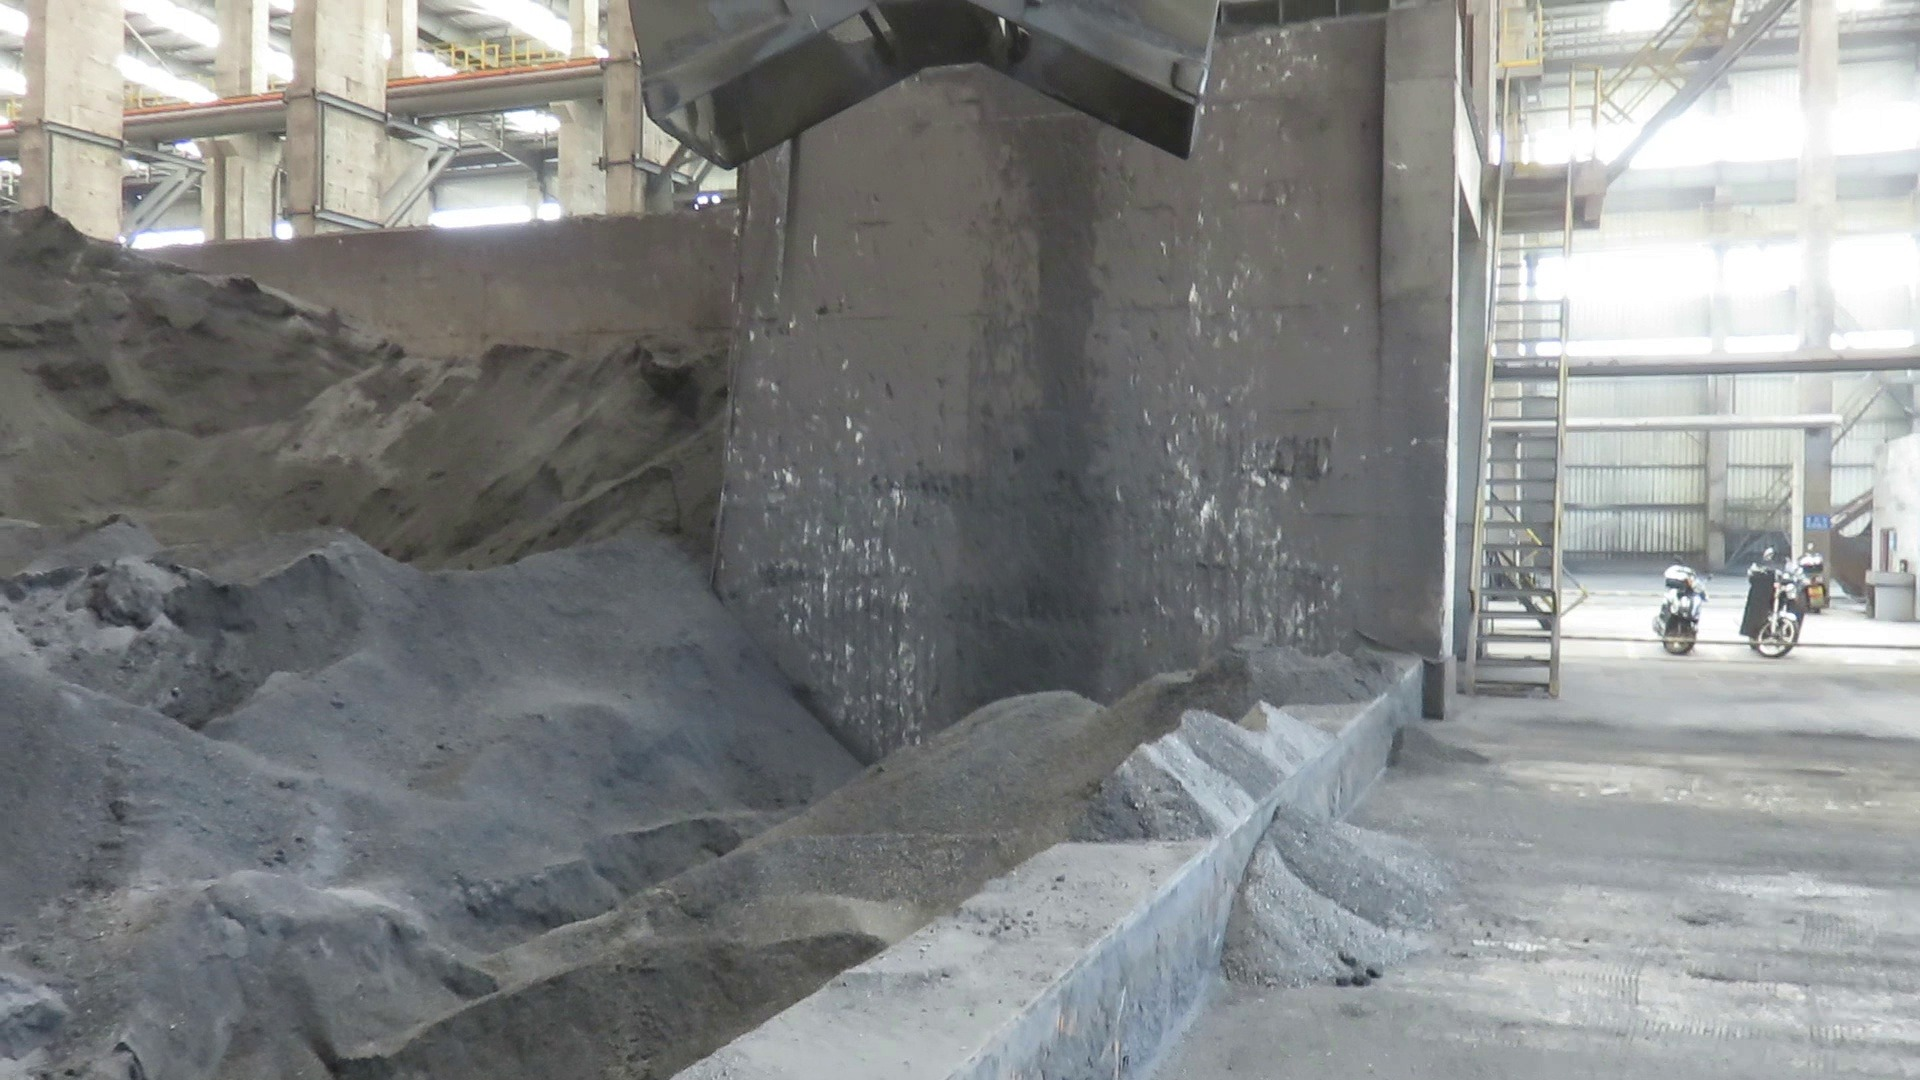grab: (600, 0, 1238, 175)
